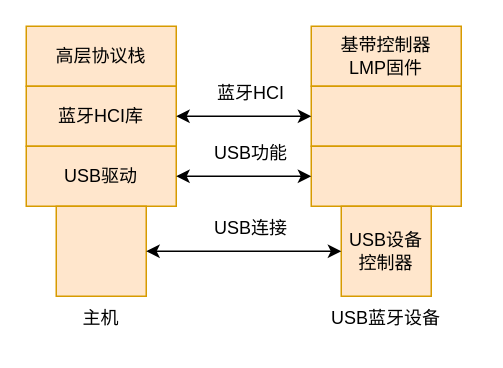
Image size: 503x368. Some labels were removed from this diagram. Each missing label, with the centre of its shape:
"USB主机控制器" goes at (x=100, y=250).
"蓝牙HCI固件" goes at (x=385, y=115).
"蓝牙USB固件" goes at (x=385, y=175).
